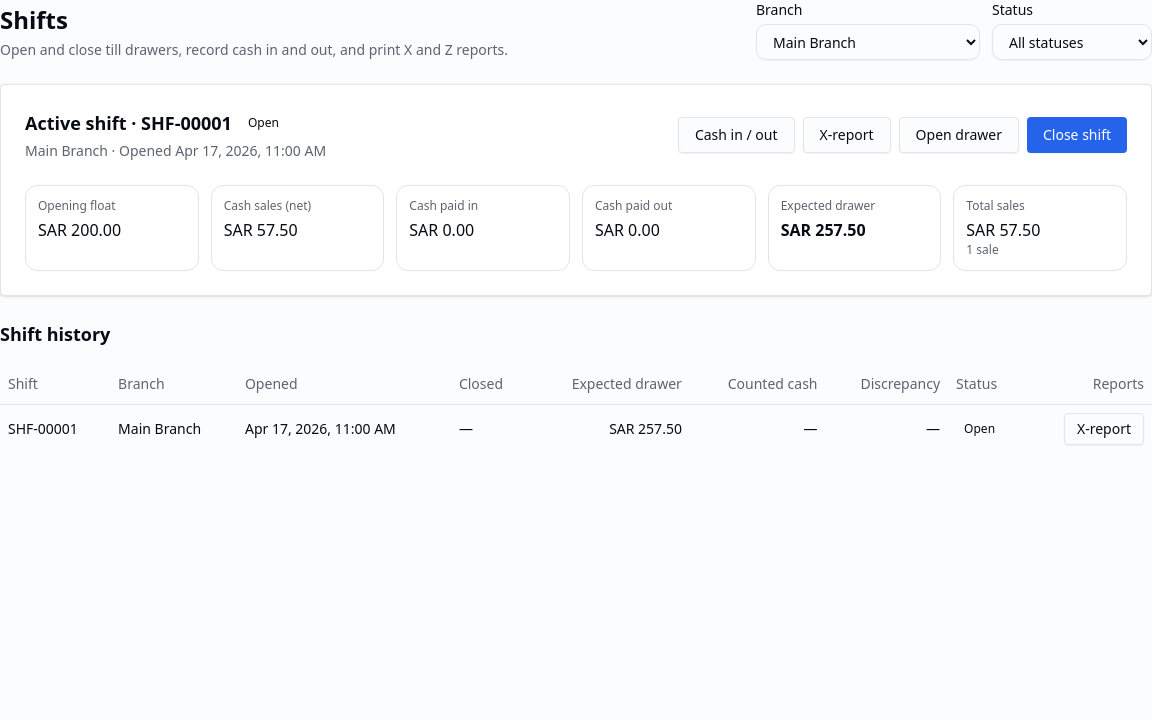
Test: P6.5 ShiftsPage › views and prints the X-report via QZ Tray, then closes the shift and displays the Z-report
The width and height of the screenshot is (1152, 720).
Expected: the heading "Active shift · SHF-00001 Open" is shown, [25,111,279,135]
Click the button "X-report" in the row of "Active shift · SHF-00001" at x=847, y=135, box [803,117,891,153]
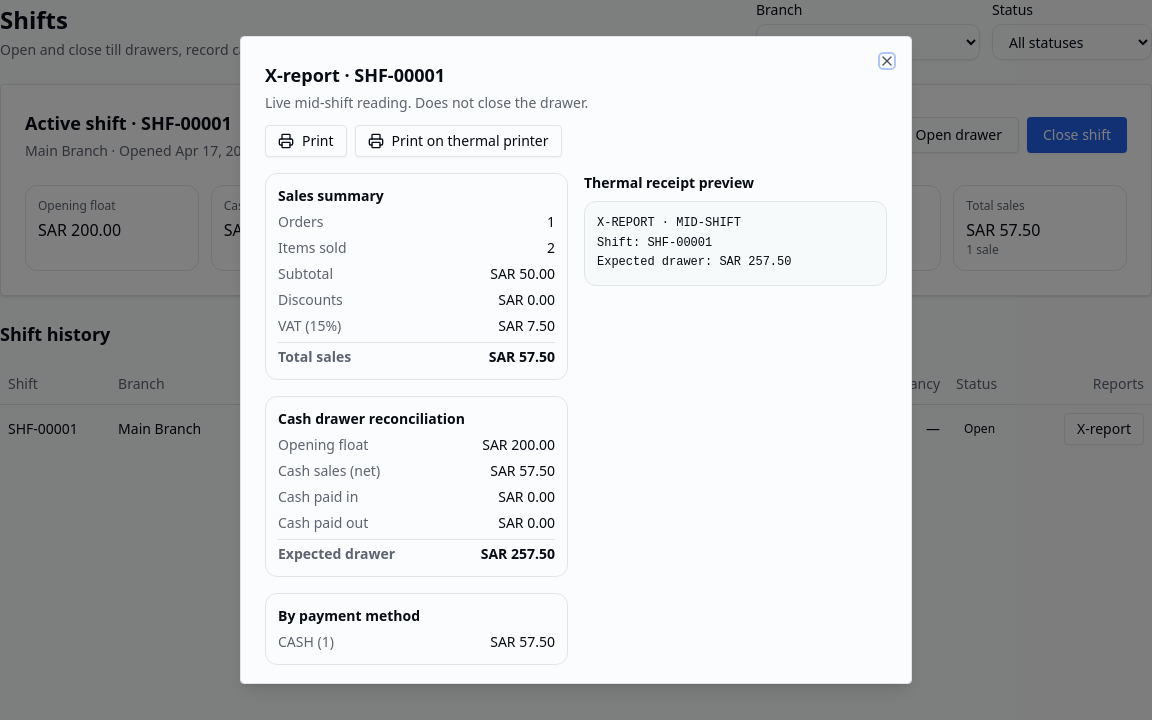
Result: the text "X-REPORT · MID-SHIFT" is shown at [597,216,791,269]
Click the button "Print on thermal printer" at x=458, y=141, box [355,125,562,157]
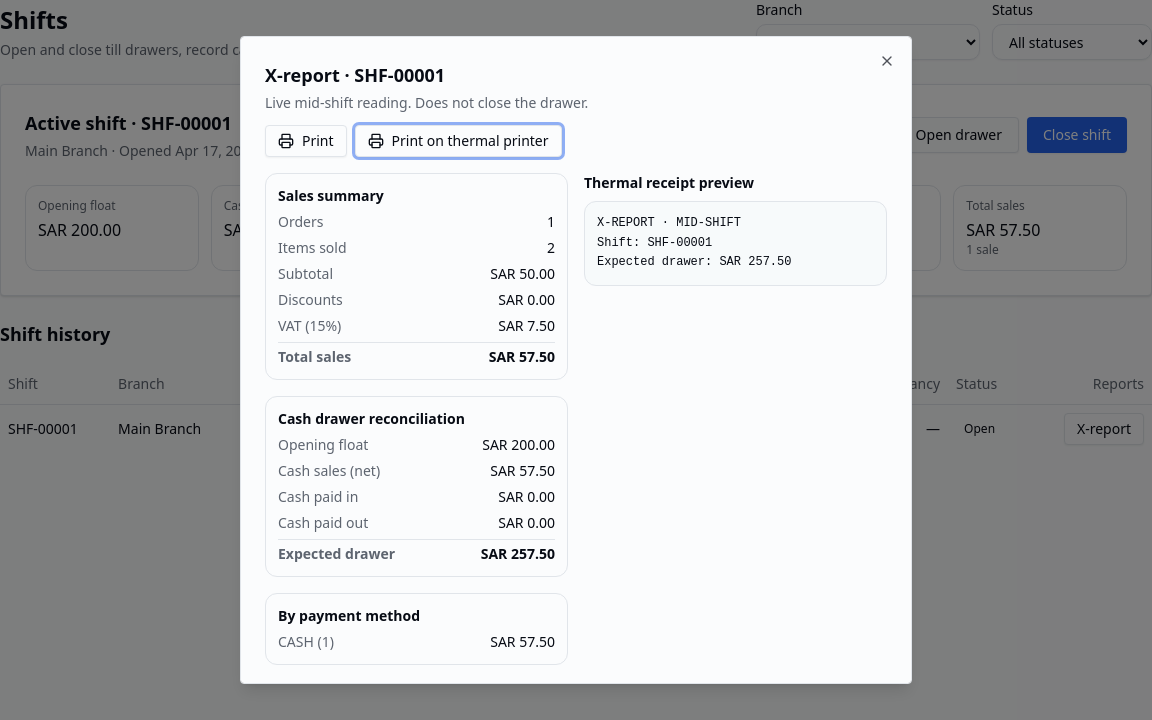
Click the button named "Close" at x=887, y=61, box [879,53,895,69]
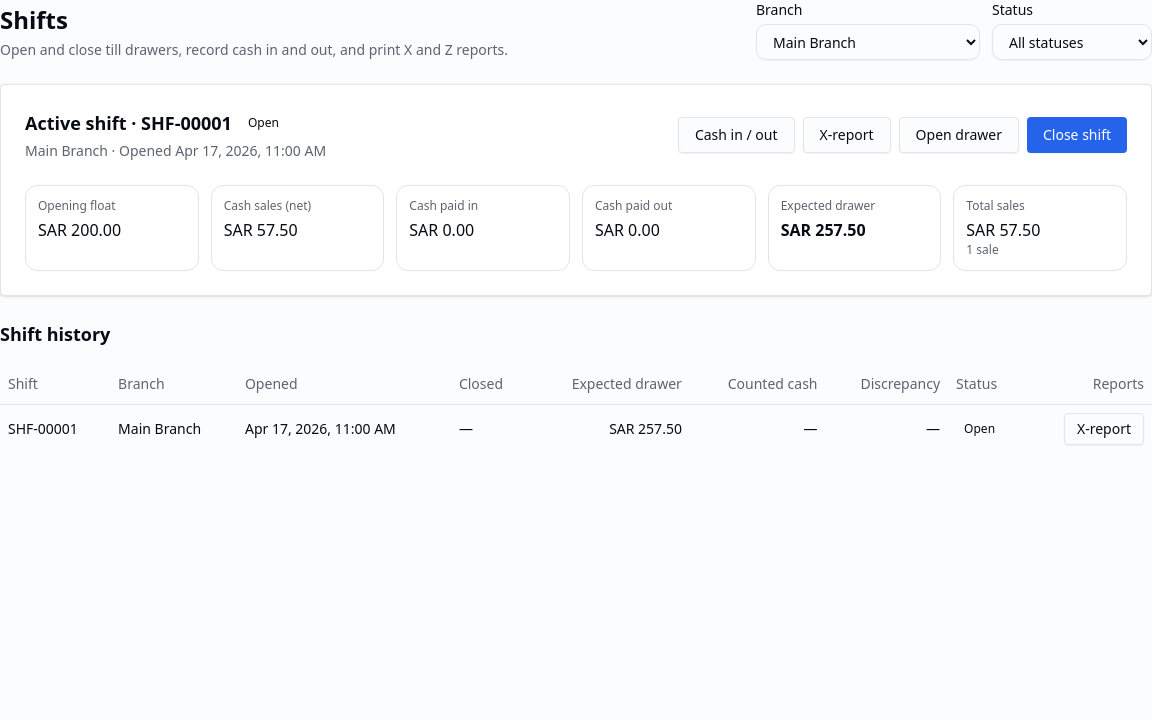
Click the button "Close shift" at x=1077, y=135, box [1027,117,1127,153]
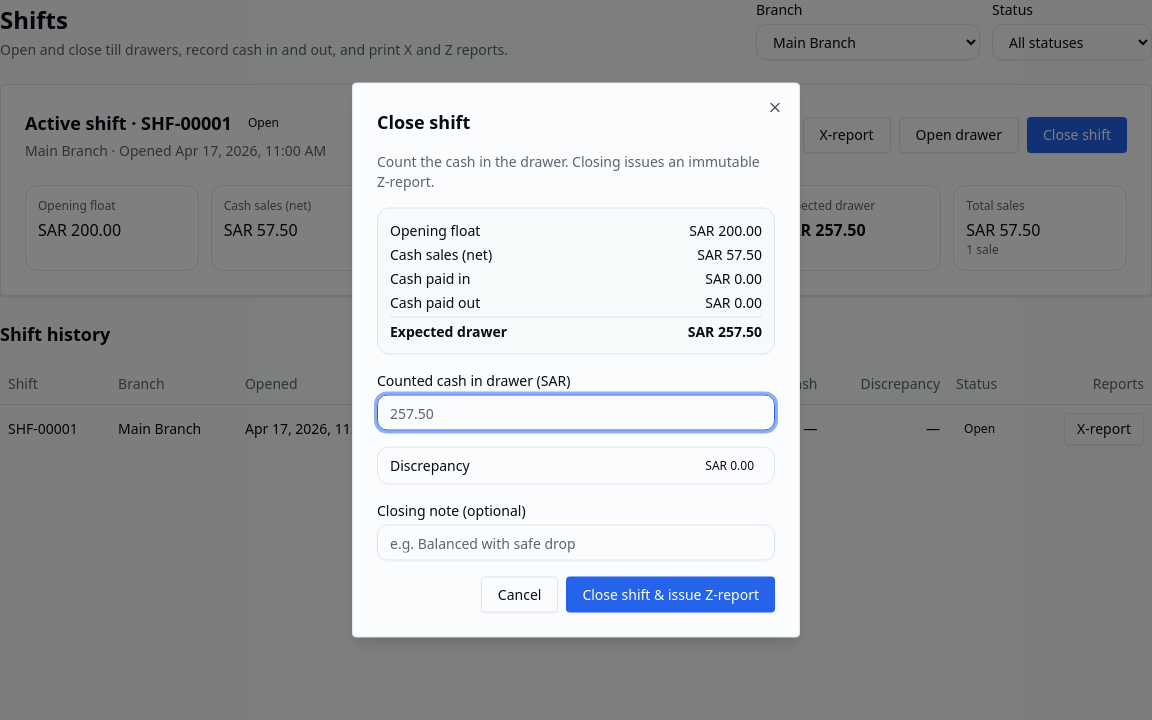
Type "255" into the field labelled "Counted cash in drawer (SAR)" at x=576, y=412, box [377,394,775,430]
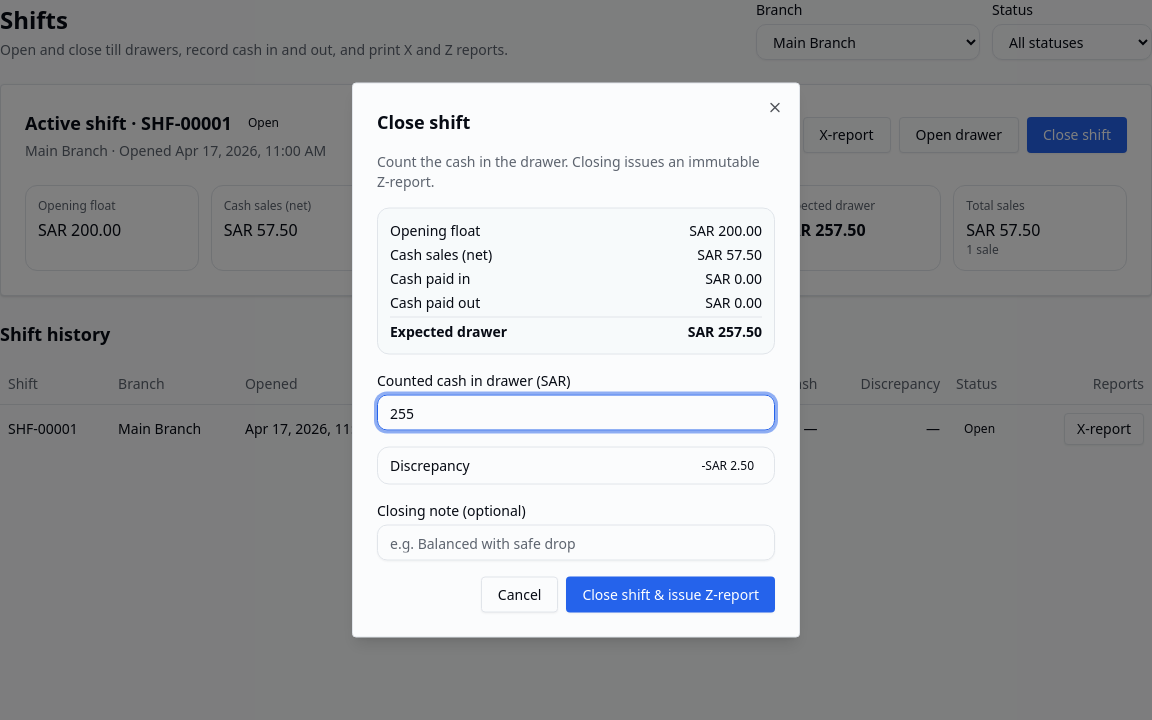
Click the button "Close shift & issue Z-report" at x=671, y=594, box [566,576,775,612]
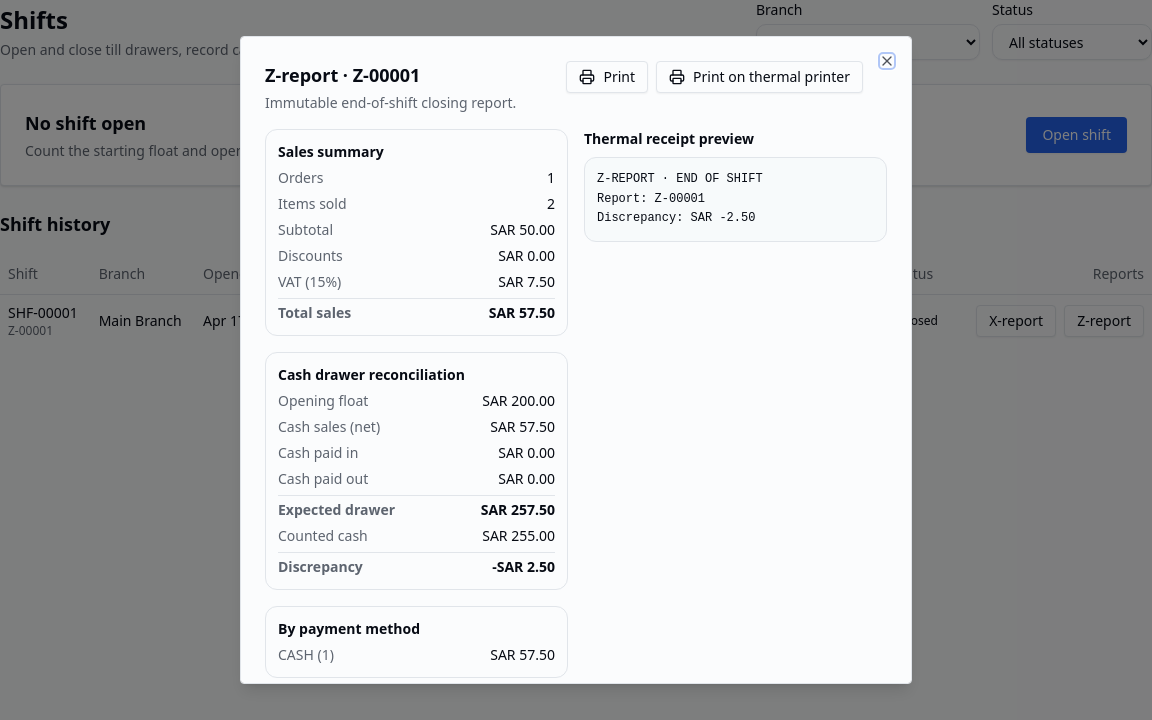
Result: the heading "Z-report · Z-00001" is shown at [265,63,420,87]
Result: the text "Z-REPORT · END OF SHIFT" is shown at [597,172,763,225]
